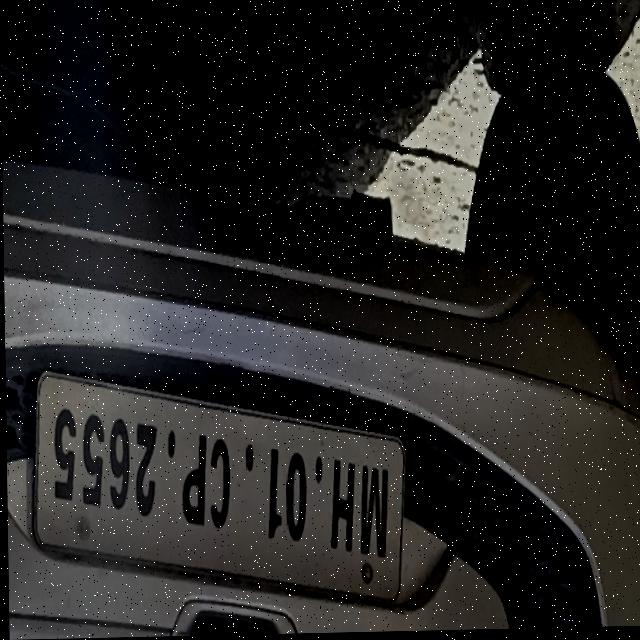plate: (29, 369, 407, 613)
